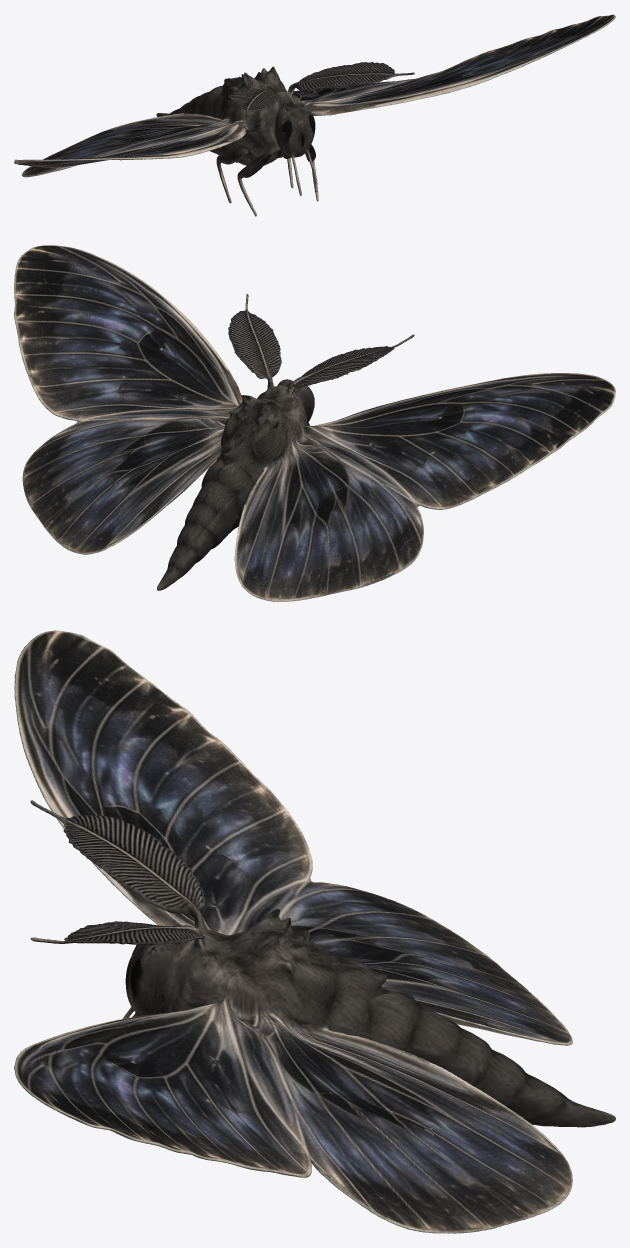
The model's file is moth-final.glb.
3 renders of one model, top to bottom at view 1: azimuth 30°, elevation 25°; view 2: azimuth 150°, elevation 25°; view 3: azimuth 270°, elevation 25°, orthographic. The views are drawn at different scales.
Parts seen in each view (by area): view 1: body, Wing_L, Wing_R; view 2: Wing_L, Wing_R, body; view 3: Wing_L, Wing_R, body.
Part boxes in pixels (x1,y1,x2,y2): body: (156,62,414,216); Wing_L: (293,14,615,115); Wing_R: (14,106,254,177); Wing_L: (14,245,242,554); Wing_R: (234,373,615,601); body: (157,294,414,590); Wing_L: (14,978,572,1233); Wing_R: (14,630,572,1045); body: (30,800,615,1127).
Size of the model in its own units: 1.9 by 0.4759 by 0.9901.
1 material, 1 textured.
